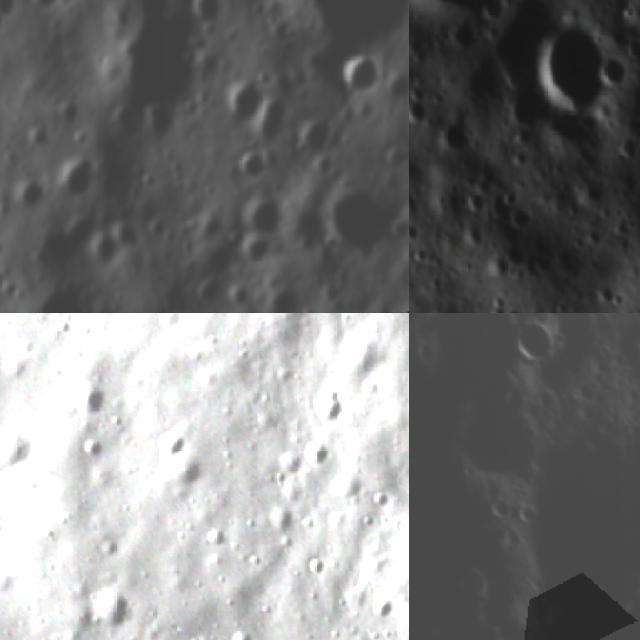crater: (524, 11, 624, 123), (321, 183, 389, 250), (82, 583, 147, 640), (67, 371, 128, 427), (238, 192, 290, 241), (221, 76, 272, 124), (0, 415, 37, 476), (508, 323, 554, 368), (338, 52, 384, 95), (363, 582, 406, 624), (148, 422, 185, 470), (432, 115, 472, 159), (175, 456, 214, 499), (298, 434, 337, 477), (290, 113, 330, 154), (61, 161, 103, 199), (598, 49, 634, 92), (235, 139, 269, 184), (312, 387, 349, 427), (446, 19, 482, 56), (93, 534, 130, 568), (183, 0, 224, 30), (504, 197, 536, 233), (607, 128, 639, 162), (590, 278, 621, 308), (458, 218, 487, 250), (13, 178, 42, 208), (409, 85, 428, 128), (460, 187, 486, 216), (500, 238, 526, 267), (217, 626, 266, 640), (499, 186, 520, 212), (25, 0, 58, 14), (409, 218, 424, 247), (0, 0, 15, 16)
